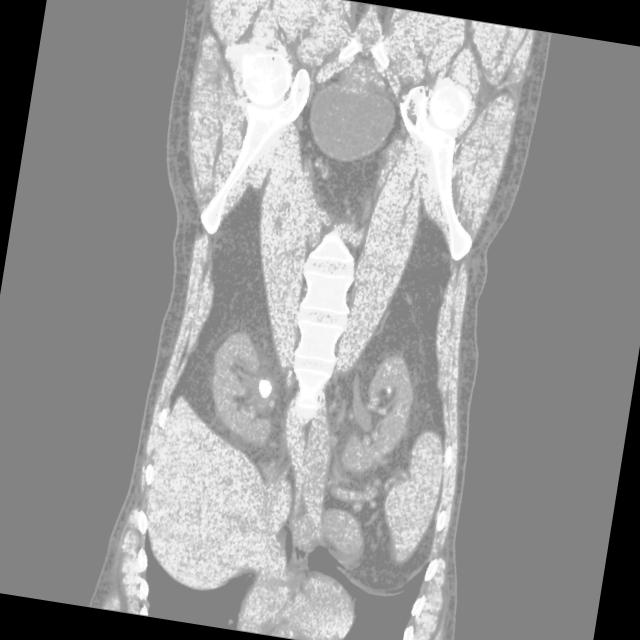STONE: (173, 317, 444, 497)
